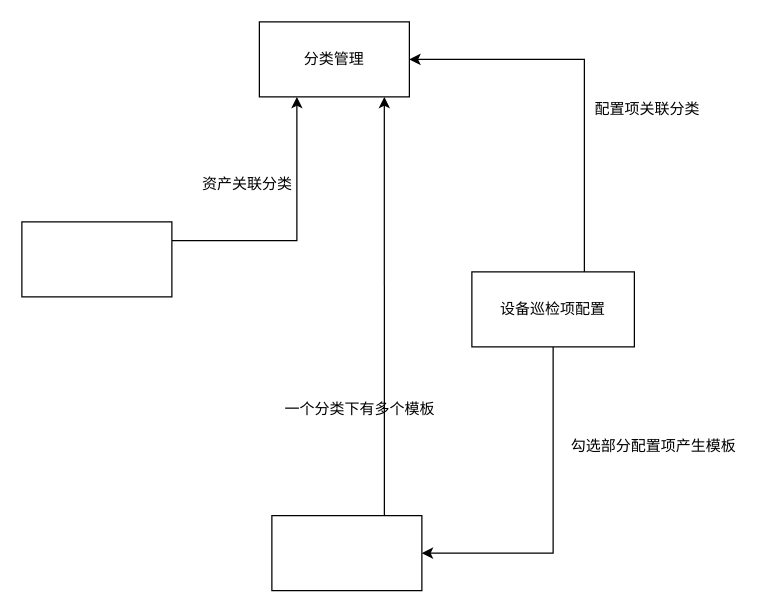
Some shapes in this 769 by 613 pixel diagram are drawn without their labels. Here are the shapes that lost their labels. From the top down, the box of each, then its label:
(21, 221, 172, 297): 资产
(271, 514, 422, 591): 巡检模版管理
